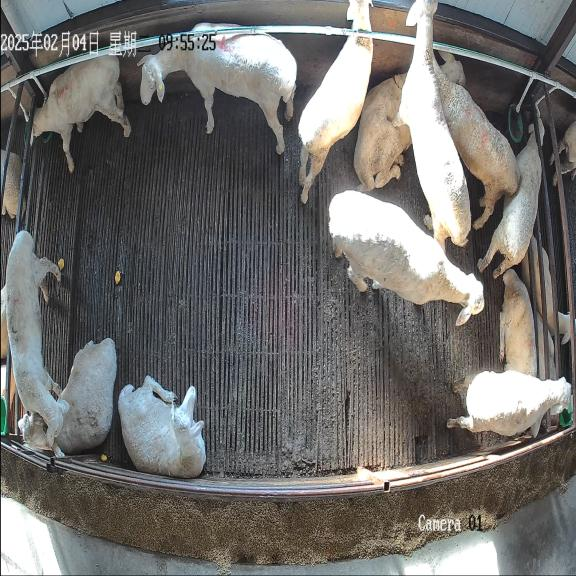drinking: (477, 110, 545, 279), (33, 55, 131, 172)
lying: (353, 54, 465, 192), (18, 338, 117, 456), (118, 376, 206, 478), (499, 270, 537, 376)
stand: (137, 22, 297, 155), (329, 190, 484, 325), (394, 0, 471, 251), (298, 0, 373, 204), (433, 59, 519, 230), (2, 231, 69, 447), (447, 371, 572, 437)
